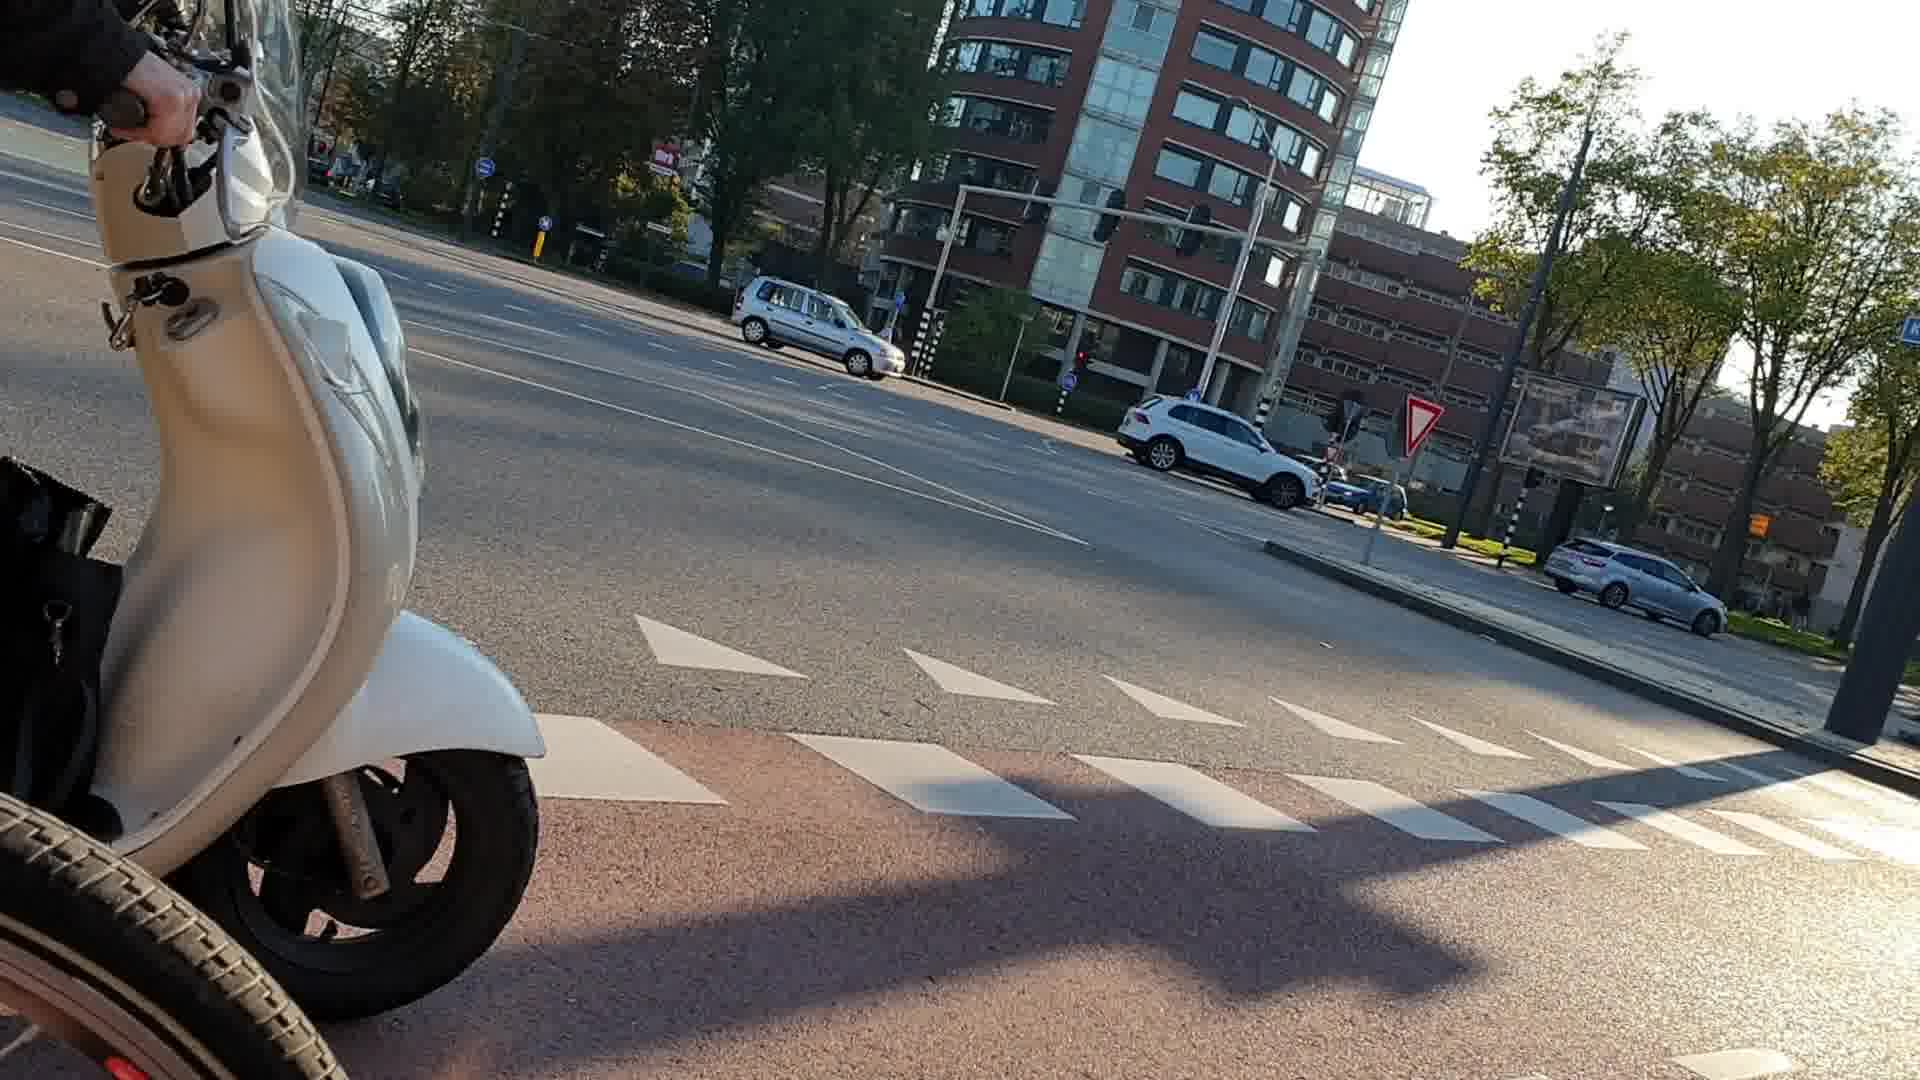car: (1119, 391, 1322, 513), (1548, 536, 1738, 640), (724, 271, 904, 377)
